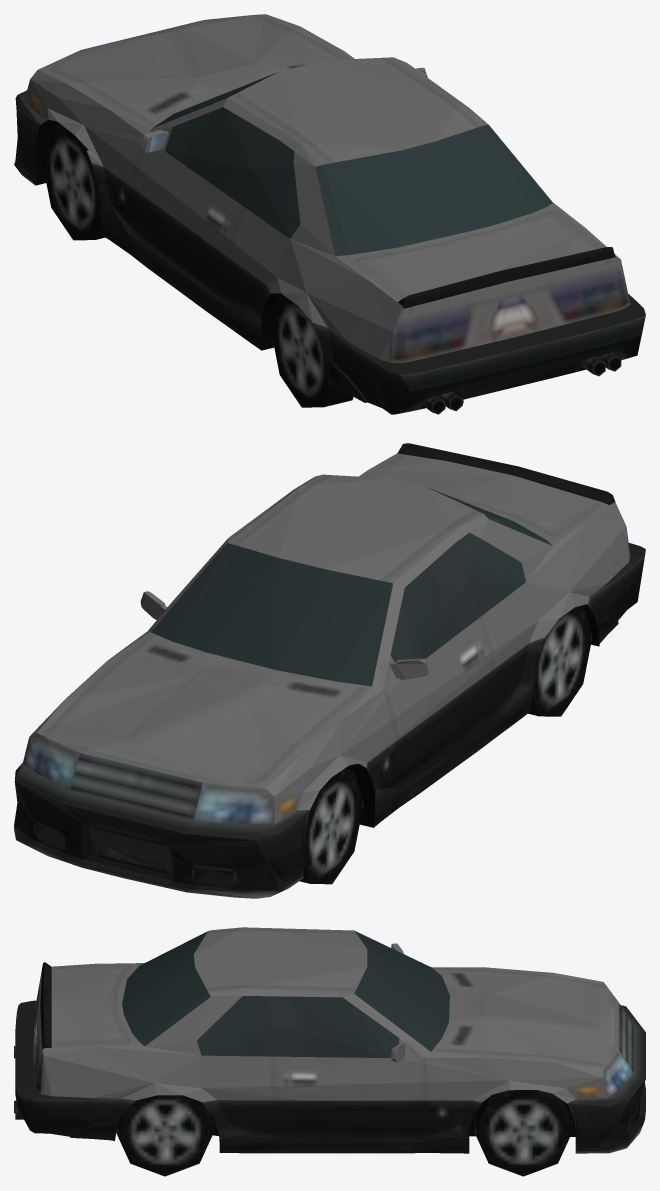
File: car1.glb
3 renders of one model, top to bottom at view 1: azimuth 30°, elevation 25°; view 2: azimuth 150°, elevation 25°; view 3: azimuth 270°, elevation 25°, orthographic. The views are drawn at different scales.
Parts seen in each view (by area): view 1: prefab; view 2: prefab; view 3: prefab.
Boxes of the visible parts, bbox=[...] form: prefab: bbox=[14, 14, 645, 414]; prefab: bbox=[14, 443, 645, 898]; prefab: bbox=[14, 927, 645, 1176].
Bounding box in the file's own units: 1.89 × 1.36 × 4.6.
1 material, 1 textured.
